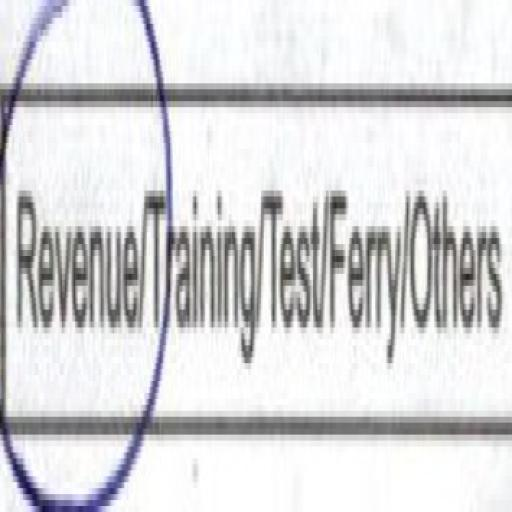check: (2, 0, 145, 512)
